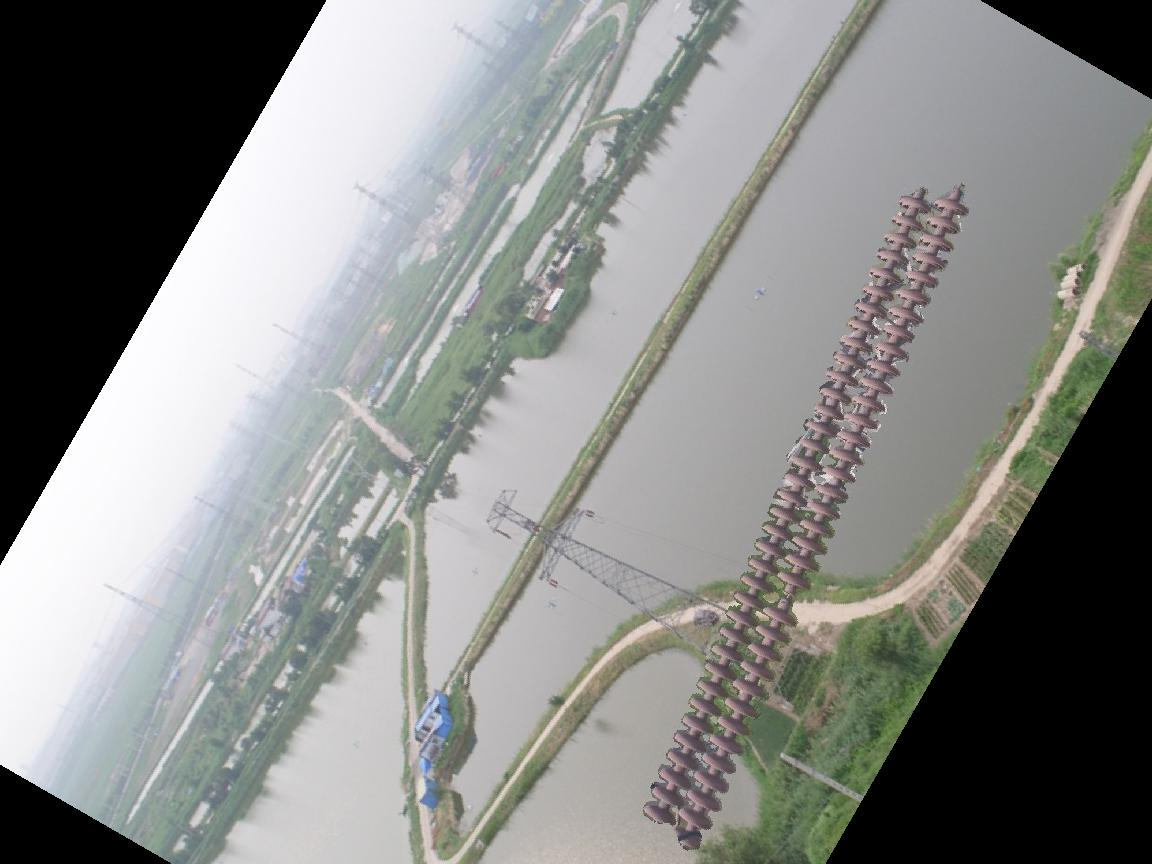insulator: (637, 185, 973, 856)
insulator_stringdrop: (761, 567, 813, 633)
